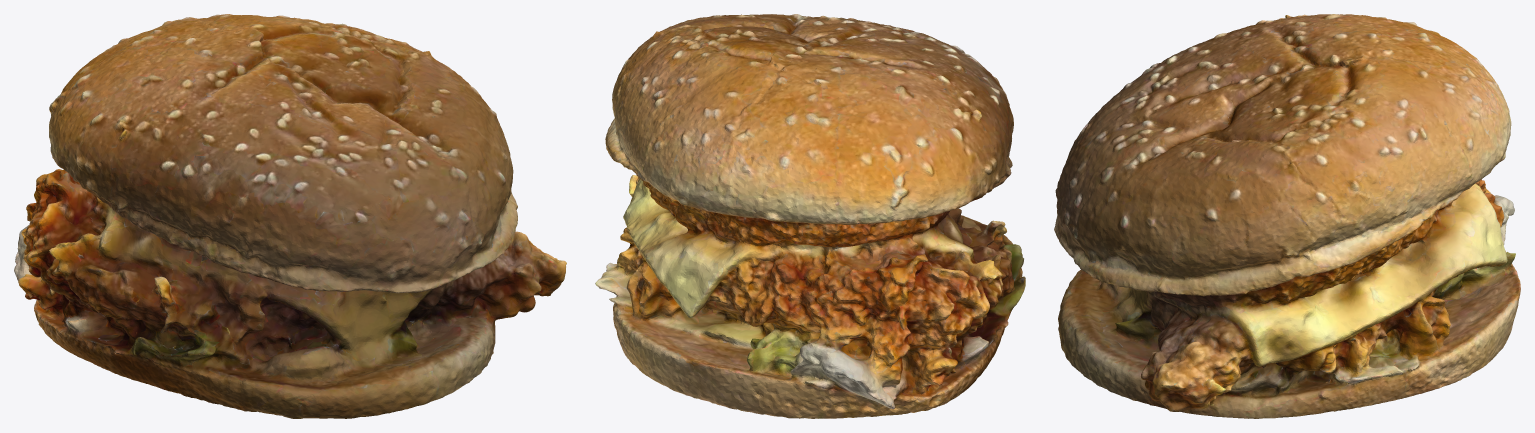
The model's file is burger-transformed.glb.
3 renders of one model, left to right at view 1: azimuth 30°, elevation 25°; view 2: azimuth 150°, elevation 25°; view 3: azimuth 270°, elevation 25°, orthographic. The views are drawn at different scales.
Visible parts, largest first — view 1: Mesh_0; view 2: Mesh_0; view 3: Mesh_0.
Boxes of the visible parts, <box> form: Mesh_0: <box>14,14,566,418</box>; Mesh_0: <box>595,14,1025,418</box>; Mesh_0: <box>1054,14,1520,418</box>.
Bounding box in the file's own units: 0.1254 × 0.0755 × 0.115.
Materials: 1 (1 with a texture image).
